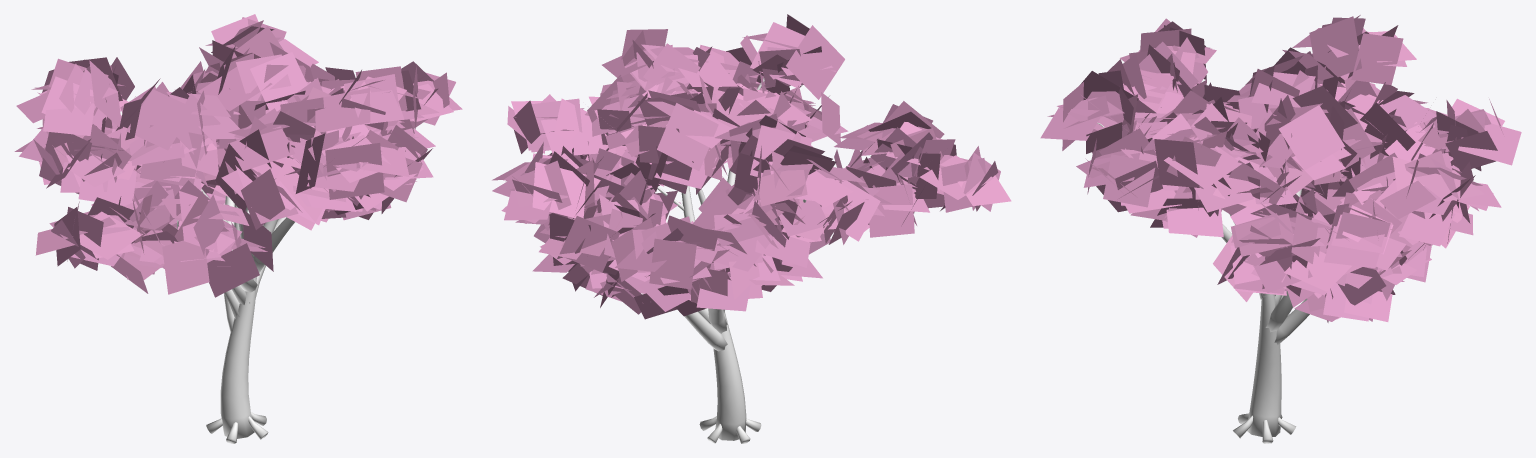
Rendered from SM_Sakura_Spread_LOD0.fbx.
3 views of the same model, side by side, from view 1: azimuth 30°, elevation 25°; view 2: azimuth 150°, elevation 25°; view 3: azimuth 270°, elevation 25° (orthographic). The views are drawn at different scales.
Parts seen in each view (by area): view 1: SM_Sakura_Spread_LOD0; view 2: SM_Sakura_Spread_LOD0; view 3: SM_Sakura_Spread_LOD0.
Boxes of the visible parts, <box> form: SM_Sakura_Spread_LOD0: <box>14,14,462,443</box>; SM_Sakura_Spread_LOD0: <box>492,14,1011,443</box>; SM_Sakura_Spread_LOD0: <box>1040,15,1521,443</box>.
Size of what is drawn, in the model's own units: 7.97 by 7.05 by 5.89.
